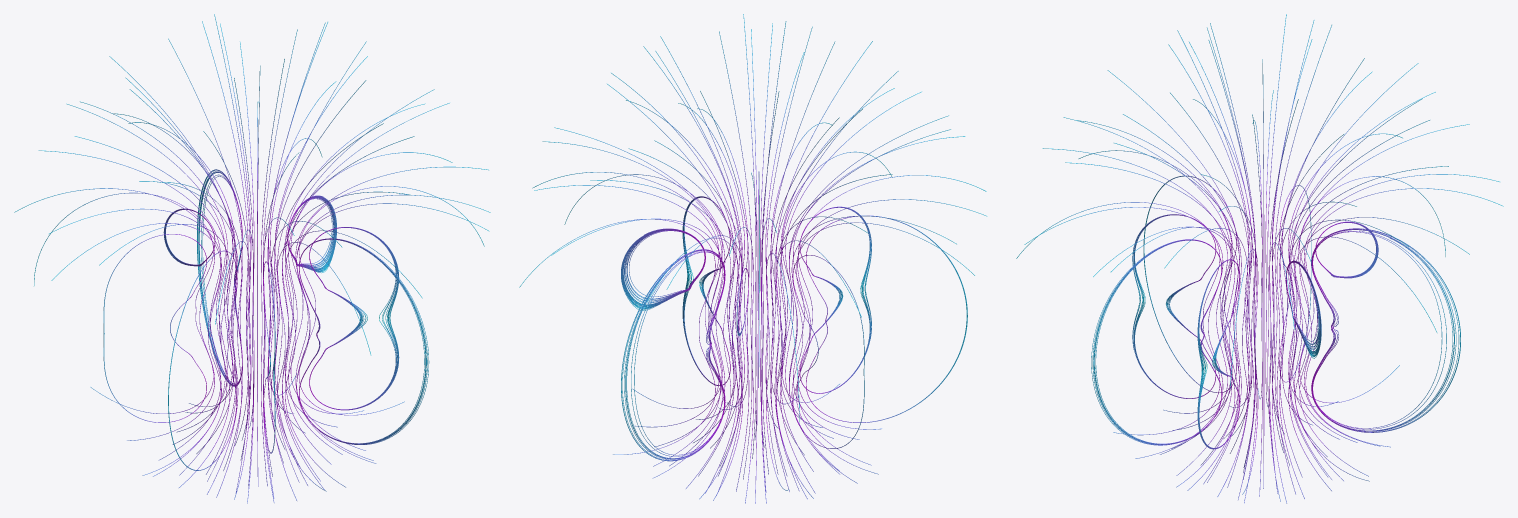
Rendered from coil_1_field_lines.gltf.
3 renders of one model, left to right at view 1: azimuth 30°, elevation 25°; view 2: azimuth 150°, elevation 25°; view 3: azimuth 270°, elevation 25°, orthographic.
Parts seen in each view (by area): view 1: Renderer Node; view 2: Renderer Node; view 3: Renderer Node.
Boxes of the visible parts, left/top/right/bottom form: Renderer Node: left=14, top=14, right=490, bottom=503; Renderer Node: left=519, top=14, right=987, bottom=503; Renderer Node: left=1016, top=14, right=1503, bottom=503.
Bounding box in the file's own units: 2.06 × 2.07 × 2.07.
1 material, 1 textured.
